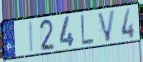2: (39, 17, 56, 53)
4: (59, 15, 77, 49), (120, 8, 136, 40)
I: (29, 20, 35, 54)
L: (80, 13, 95, 46)
V: (96, 9, 117, 43)
